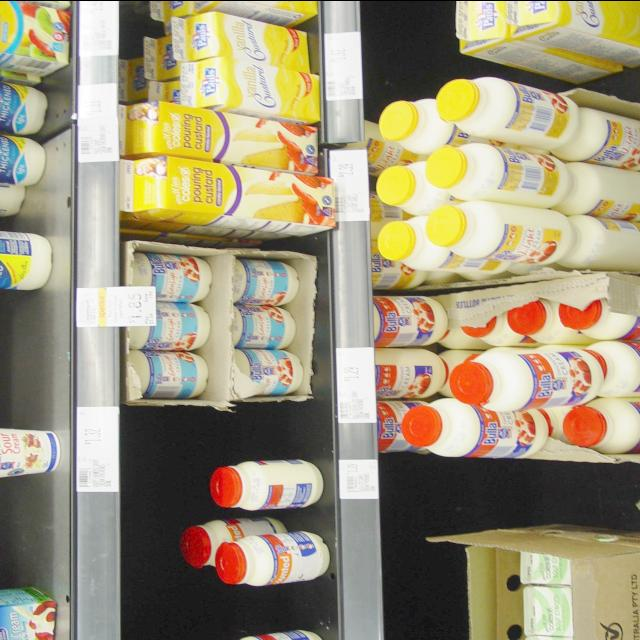empty_space: (420, 465, 630, 526), (152, 406, 316, 453), (145, 586, 307, 631), (13, 302, 57, 414), (13, 489, 56, 580)
